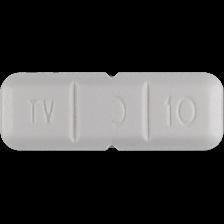63629-3333: (0, 0, 224, 224)
